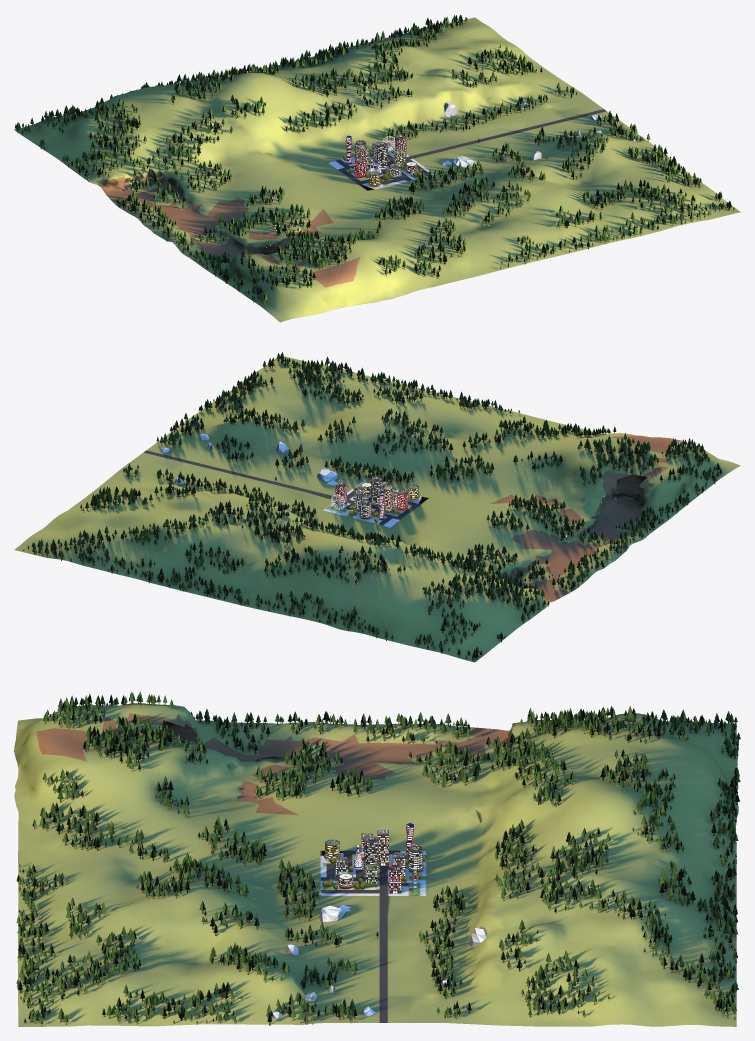
Rendered from isometric-cityscape7.glb.
The picture shows the model from 3 angles, top to bottom: view 1: azimuth 30°, elevation 25°; view 2: azimuth 150°, elevation 25°; view 3: azimuth 270°, elevation 25°; orthographic projection. The views are drawn at different scales.
Parts seen in each view (by area): view 1: Floor, Vegetation, CityBase.001; view 2: Floor, Vegetation, CityBase.001; view 3: Floor, Vegetation, CityBase.001.
Part boxes in pixels (left/top/right/bottom): Floor: left=14, top=17, right=740, bottom=322; Vegetation: left=15, top=14, right=734, bottom=305; CityBase.001: left=336, top=102, right=640, bottom=184; Floor: left=14, top=355, right=740, bottom=662; Vegetation: left=23, top=352, right=722, bottom=662; CityBase.001: left=143, top=419, right=420, bottom=524; Floor: left=14, top=703, right=738, bottom=1026; Vegetation: left=16, top=691, right=740, bottom=1025; CityBase.001: left=271, top=850, right=486, bottom=1022.
Bounding box in the file's own units: 67.75 × 7.13 × 67.76.
36 materials, 10 textured.
